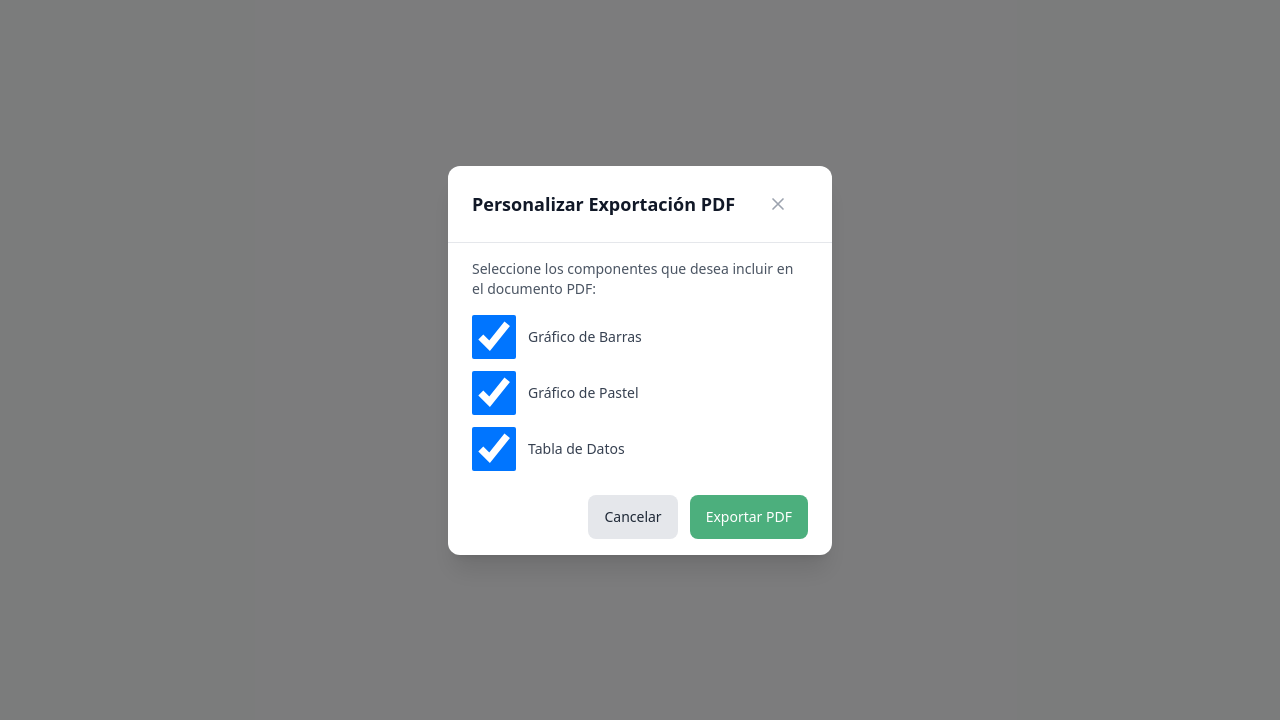
Test: ExportPdfDialog › deshabilita el botón de exportar y muestra mensaje si todos los checkboxes están desmarcados
This screenshot has width=1280, height=720.
Click the checkbox labelled "Gráfico de Barras". click: [494, 336]
box: [472, 314, 516, 358]
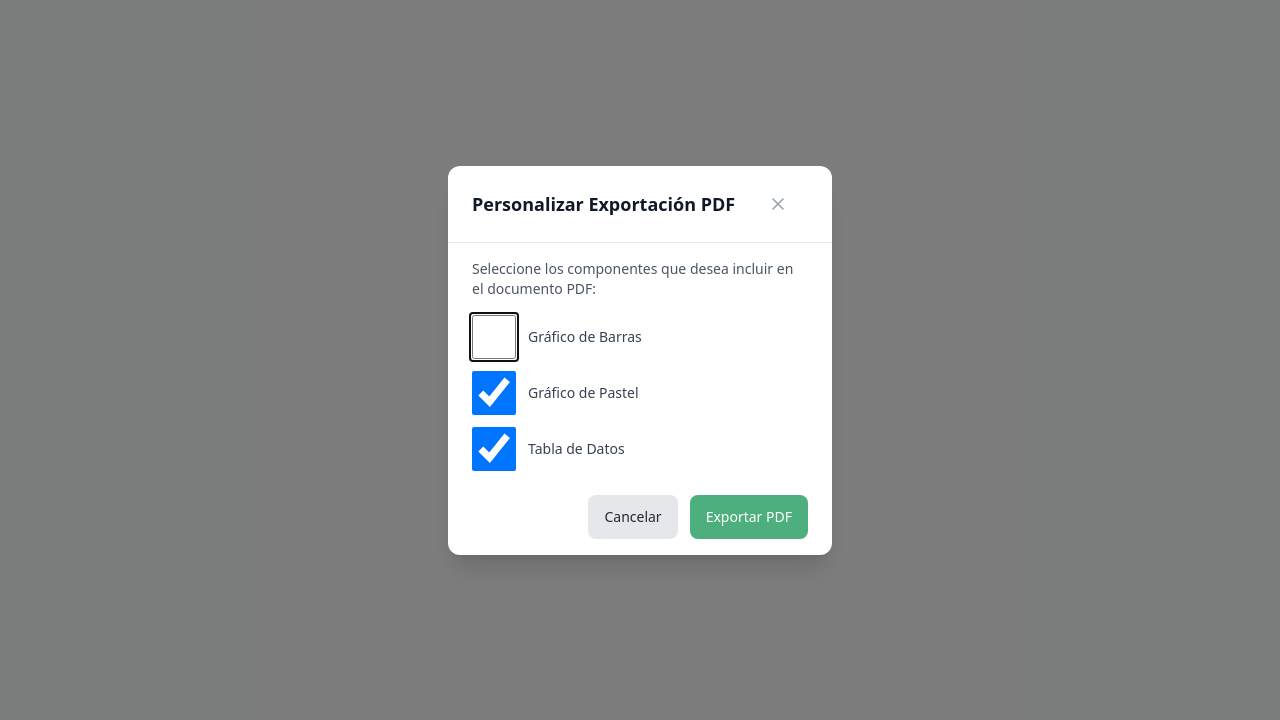
Click the checkbox labelled "Gráfico de Pastel". click: [494, 392]
box: [472, 370, 516, 414]
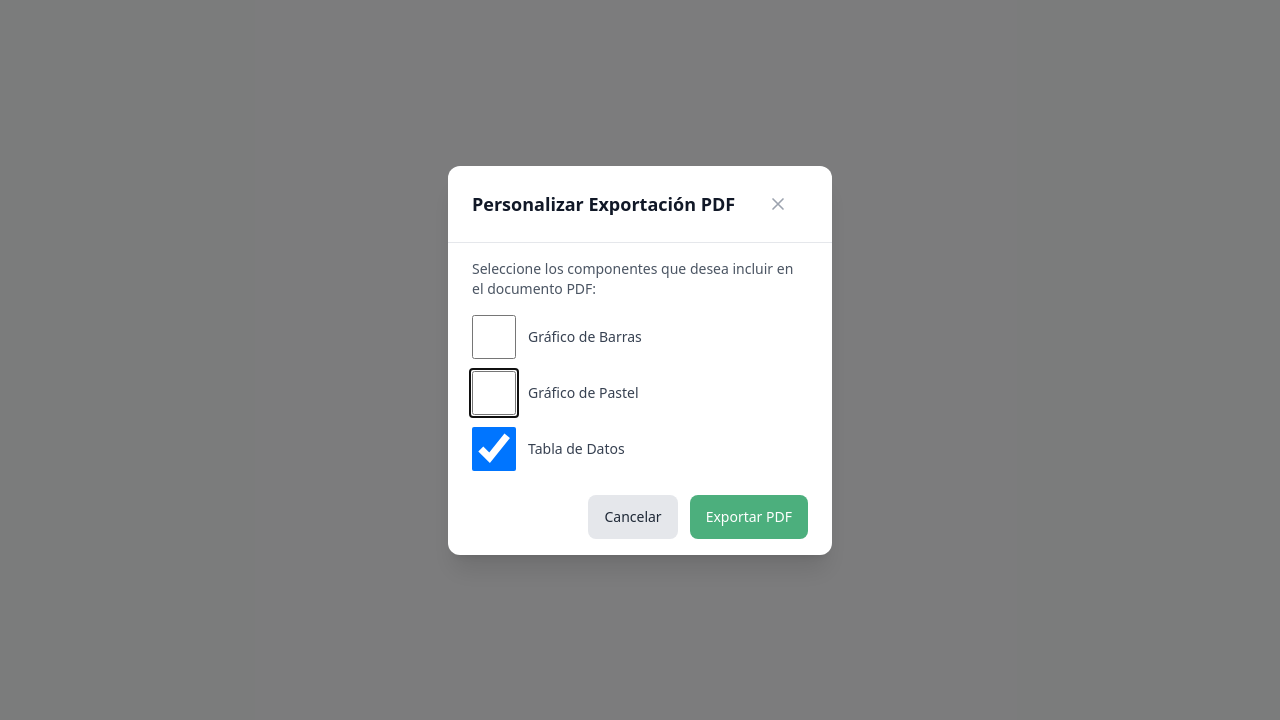
Click the checkbox labelled "Tabla de Datos". click: [494, 448]
box: [472, 426, 516, 470]
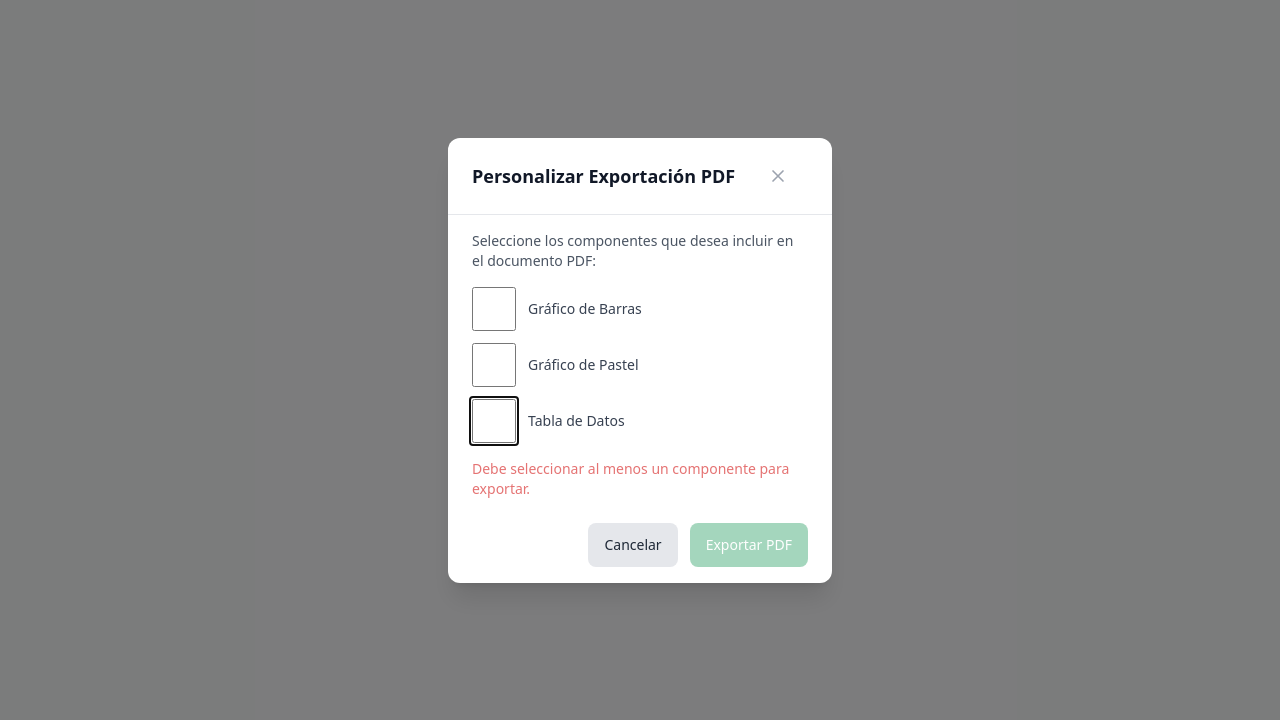
Expected: the button "Exportar PDF" is disabled, [690, 522, 808, 566]
Expected: the message reads "Debe seleccionar al menos un componente para exportar.", [472, 458, 789, 498]
